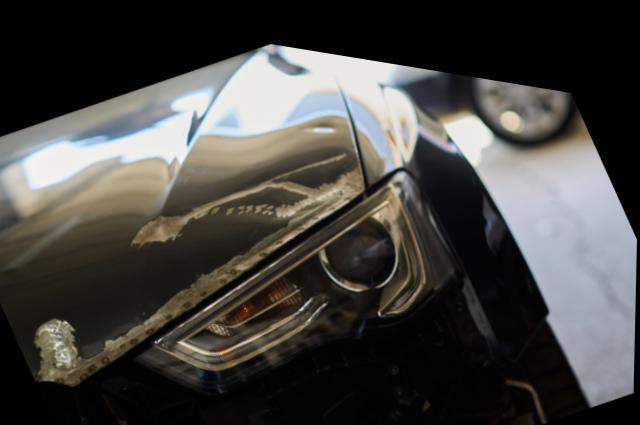scratch: (35, 135, 367, 381)
